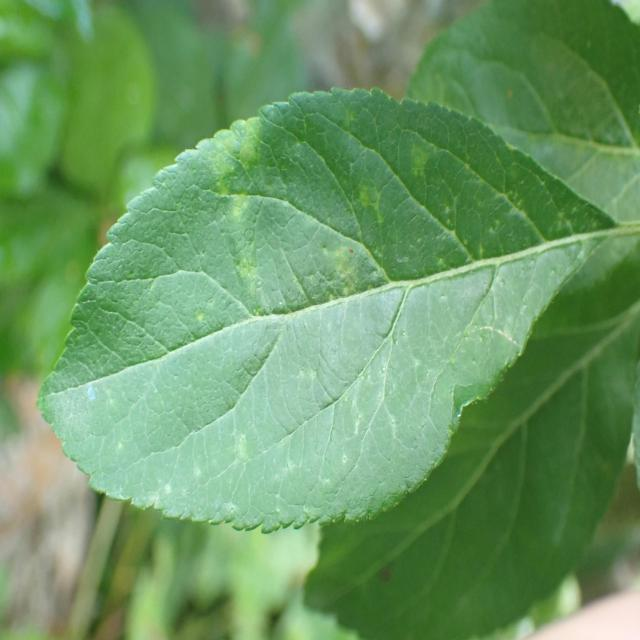scab: (48, 116, 588, 449)
